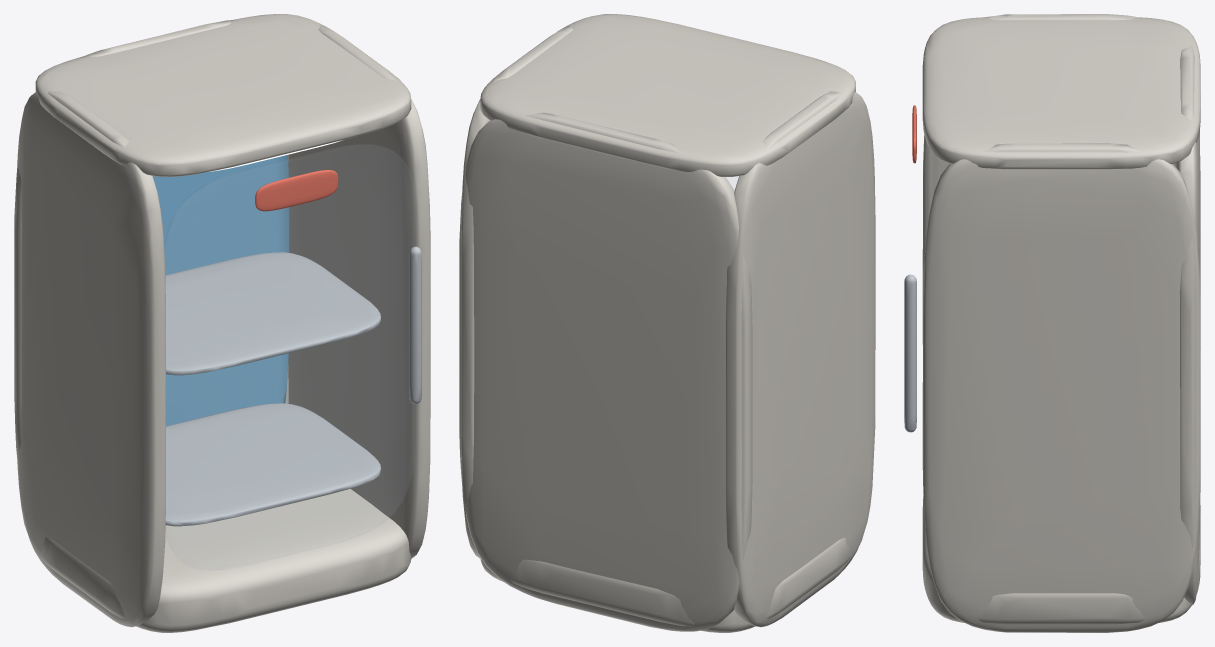
Rendered from vitrina_nevera_1.glb.
3 views of the same model, side by side, from view 1: azimuth 30°, elevation 25°; view 2: azimuth 150°, elevation 25°; view 3: azimuth 270°, elevation 25° (orthographic).
Visible parts, largest first — view 1: costado.002, techo.001, costado.003, piso.001, repisa.006, repisa.007, panel interior, fondo.001, logo, manija.001; view 2: fondo.001, costado.002, techo.001, piso.001, costado.003; view 3: costado.003, techo.001, fondo.001, piso.001, costado.002, manija.001.
Part boxes in pixels (bbox=[...]): costado.002: bbox=[17, 91, 165, 627]; techo.001: bbox=[35, 14, 411, 176]; costado.003: bbox=[288, 25, 430, 558]; piso.001: bbox=[40, 488, 411, 632]; repisa.006: bbox=[165, 403, 380, 526]; repisa.007: bbox=[165, 252, 380, 375]; panel interior: bbox=[152, 155, 289, 426]; fondo.001: bbox=[14, 19, 288, 464]; logo: bbox=[255, 170, 338, 211]; manija.001: bbox=[409, 246, 421, 403]; fondo.001: bbox=[459, 112, 752, 631]; costado.002: bbox=[725, 91, 875, 627]; techo.001: bbox=[480, 14, 855, 176]; piso.001: bbox=[480, 537, 851, 632]; costado.003: bbox=[461, 25, 573, 558]; costado.003: bbox=[922, 143, 1200, 632]; techo.001: bbox=[922, 17, 1200, 169]; fondo.001: bbox=[1173, 45, 1200, 605]; piso.001: bbox=[922, 495, 1200, 624]; costado.002: bbox=[922, 14, 1200, 344]; manija.001: bbox=[904, 274, 916, 432].
Size of the model in its own units: 0.8397 by 1.35 by 0.7459.
